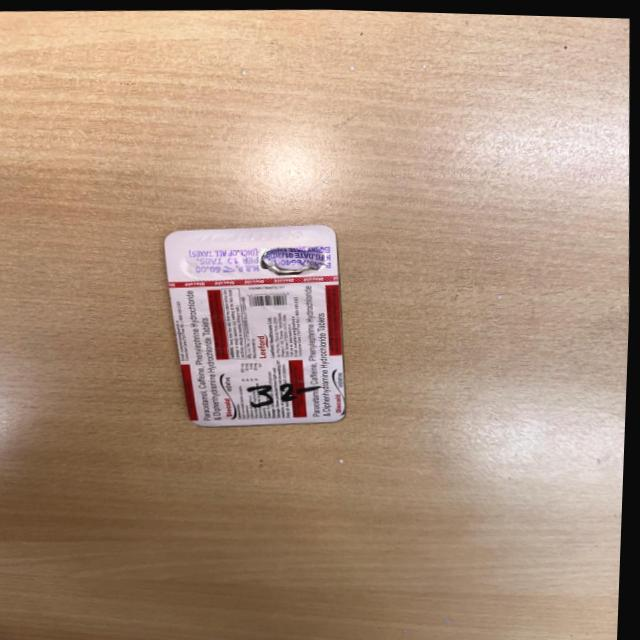medicine: (152, 215, 378, 427)
